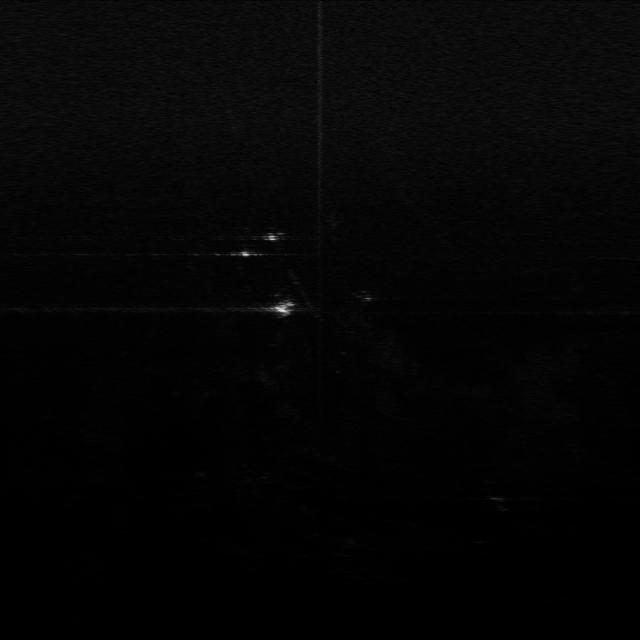rov: (267, 297, 299, 321)
